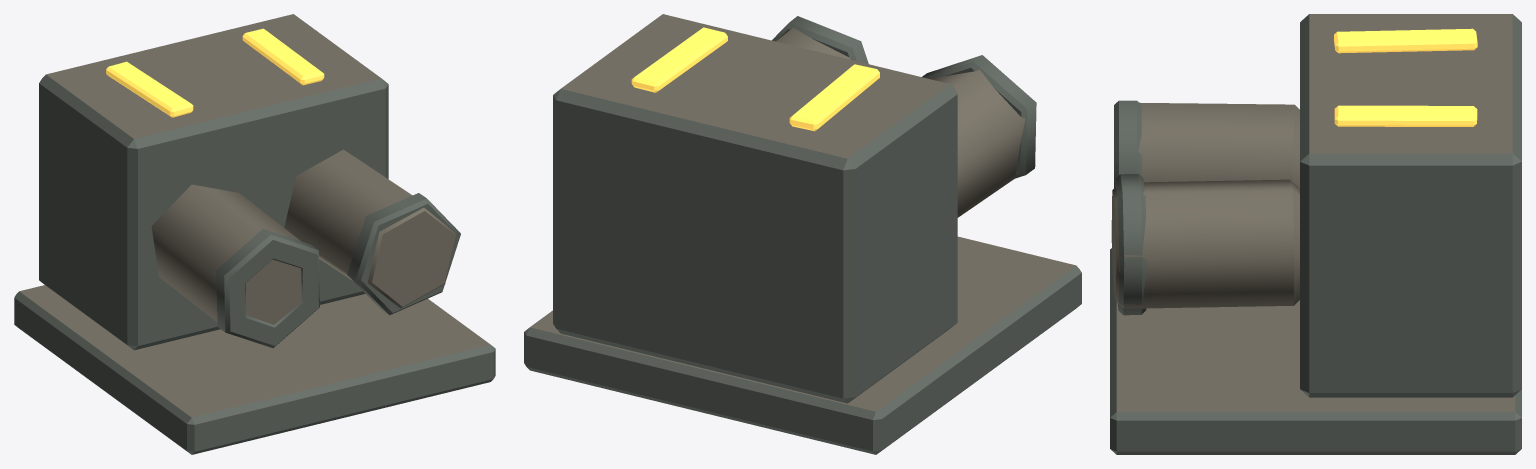
Rendered from R4X_DoubleShotPassive_LOD1.fbx.
The picture shows the model from 3 angles, left to right: view 1: azimuth 30°, elevation 25°; view 2: azimuth 150°, elevation 25°; view 3: azimuth 270°, elevation 25°; orthographic projection. The views are drawn at different scales.
Parts seen in each view (by area): view 1: R4X_DoubleShotPassive_LOD1; view 2: R4X_DoubleShotPassive_LOD1; view 3: R4X_DoubleShotPassive_LOD1.
Part boxes in pixels (<box>): R4X_DoubleShotPassive_LOD1: <box>14,14,495,454</box>; R4X_DoubleShotPassive_LOD1: <box>524,14,1081,454</box>; R4X_DoubleShotPassive_LOD1: <box>1110,14,1521,454</box>.
Size of the model in its own units: 0.52 by 0.415 by 0.52.
